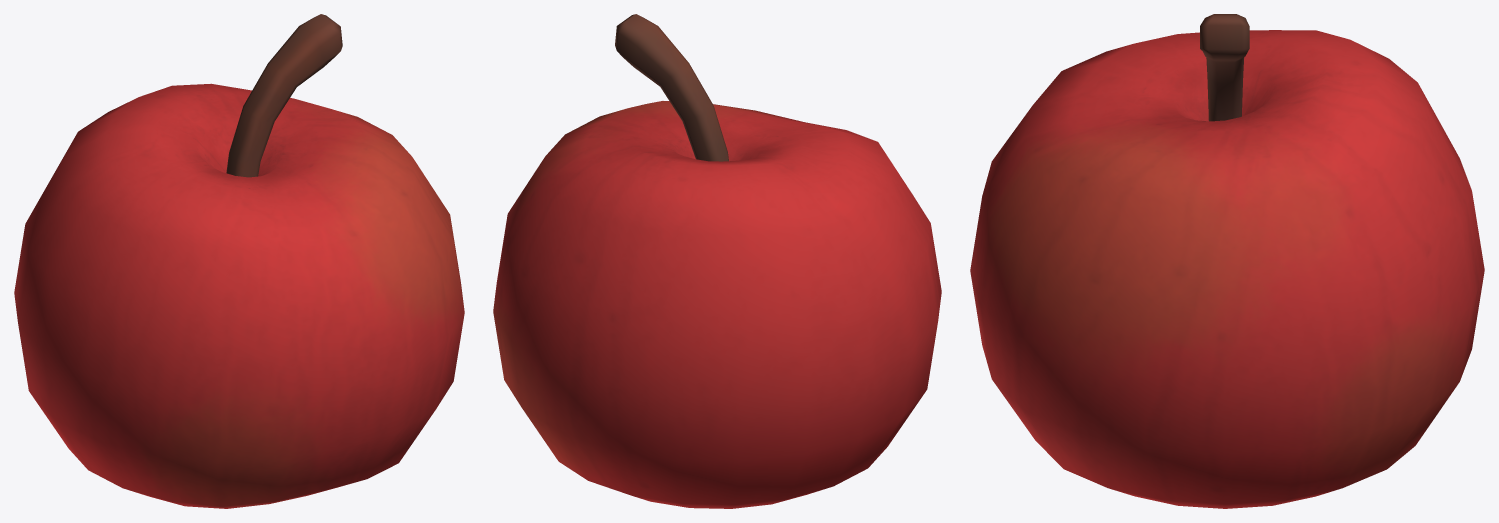
File: Apple.fbx
3 renders of one model, left to right at view 1: azimuth 30°, elevation 25°; view 2: azimuth 150°, elevation 25°; view 3: azimuth 270°, elevation 25°, orthographic. The views are drawn at different scales.
Visible parts, largest first — view 1: Apple; view 2: Apple; view 3: Apple.
Boxes of the visible parts, bbox=[...] form: Apple: bbox=[14, 14, 464, 508]; Apple: bbox=[493, 14, 941, 508]; Apple: bbox=[970, 14, 1484, 508].
Size of the model in its own units: 1.75 by 1.8 by 1.74.
